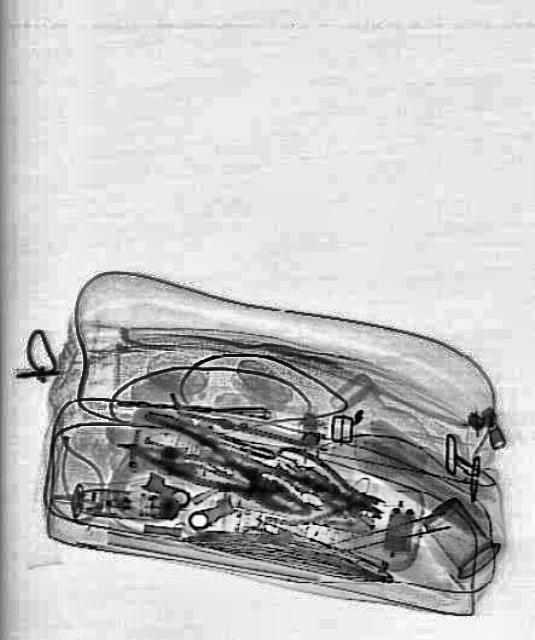Pliers: (126, 404, 320, 534), (266, 442, 390, 544)
